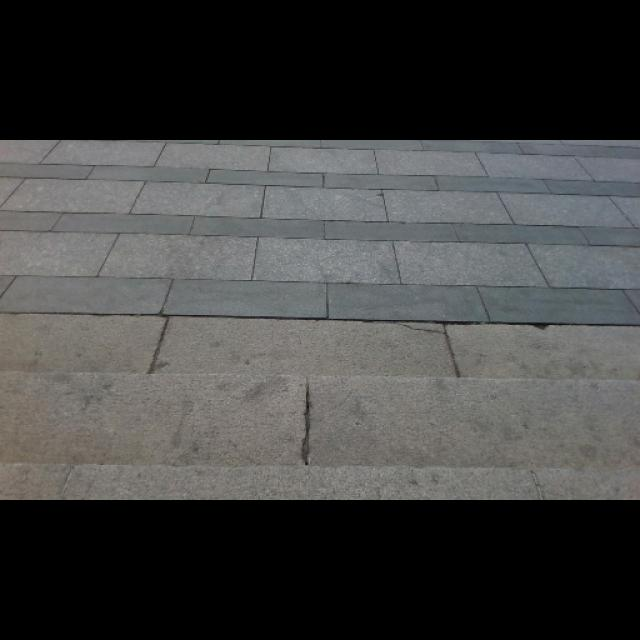stair: (2, 316, 640, 497)
